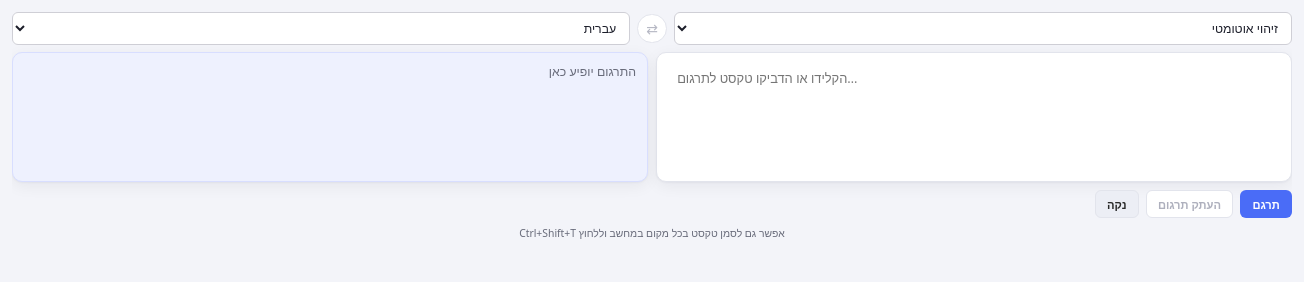
clipboard failure keeps the successful translation visible
This screenshot has width=1304, height=282.
In the text box: (974, 117) [668,62,1280,172], type "Hello"
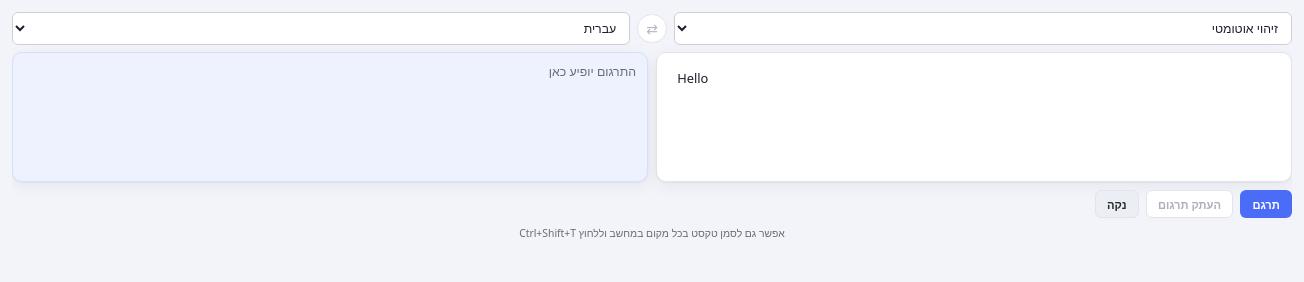
Click the button "תרגם": (1266, 204) [1240,190,1292,218]
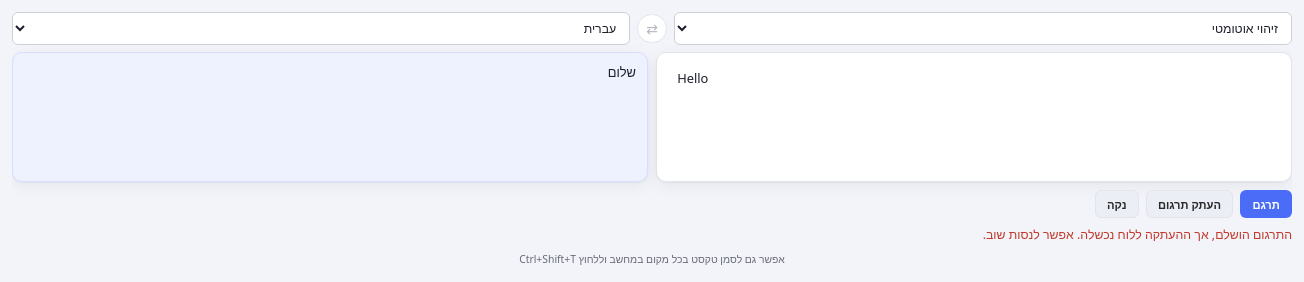
Expected: the text "שלום" is shown, [608,62,636,80]
Expected: the message "התרגום הושלם, אך ההעתקה ללוח נכשלה. אפשר לנסות שוב." is shown, [983,226,1292,243]
